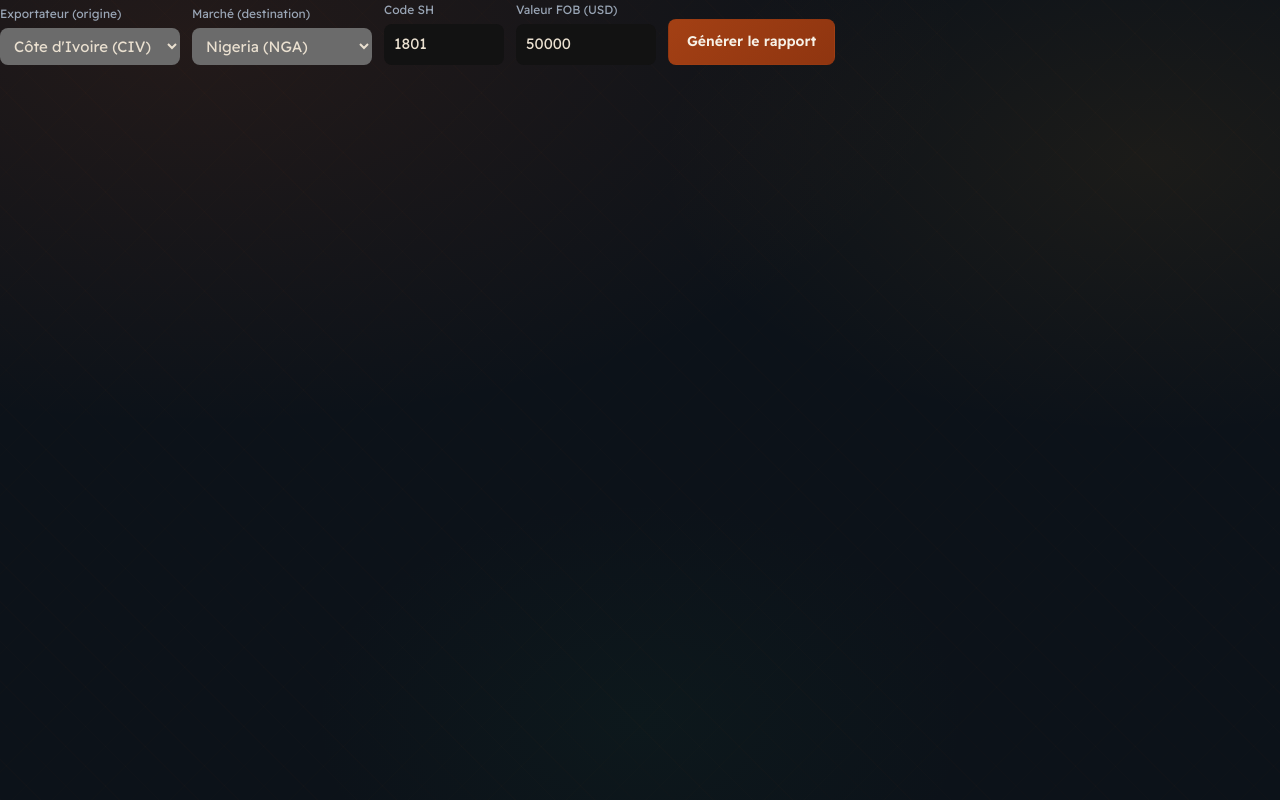
Test: BilateralView — substitution feasibility card › renders the substitutability coefficient once the report loads
Click the button with test id "report-run": (752, 42) [668,20,835,65]
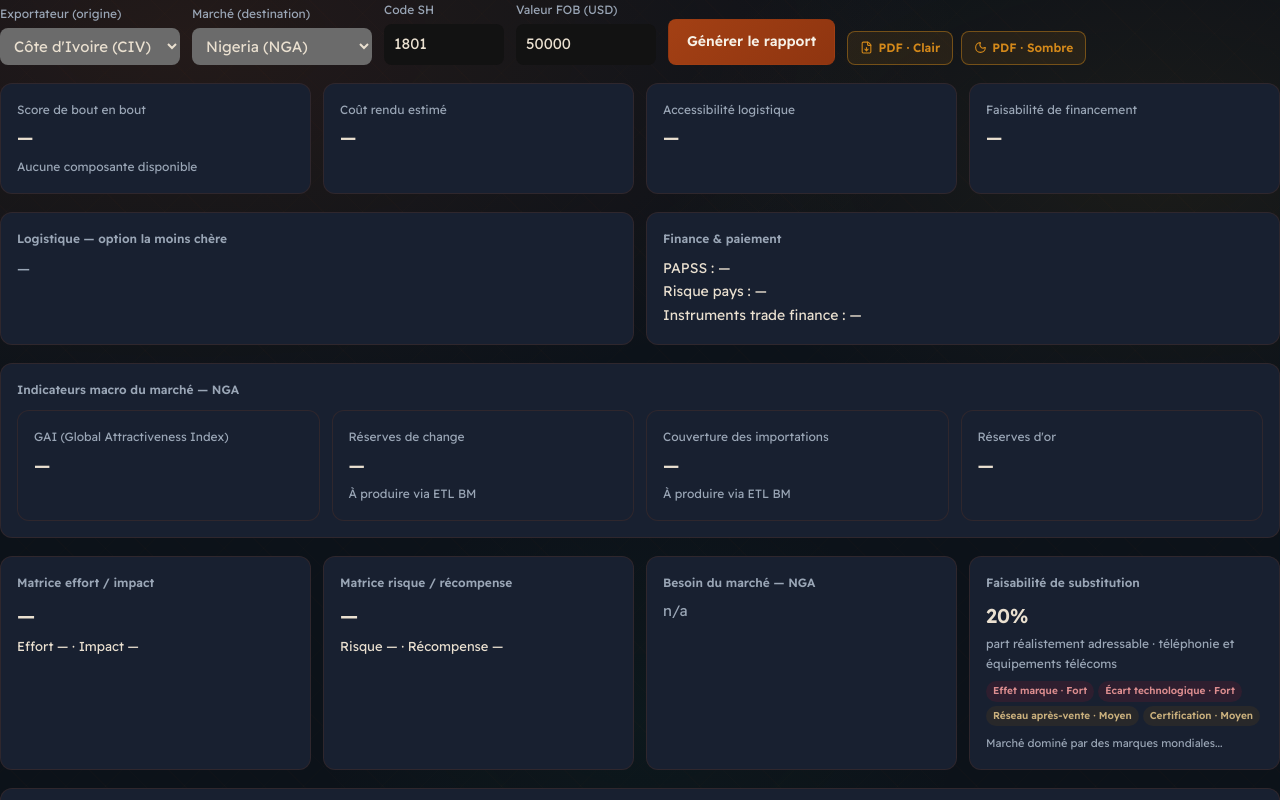
Expected: the element with test id "report-substitution-feasibility" is shown, [969,556,1279,770]
Expected: the element with test id "report-substitution-feasibility" shows "20%", [986,603,1028,628]
Expected: the element with test id "report-substitution-feasibility" shows "téléphonie et équipements télécoms", [986,636,1234,671]
